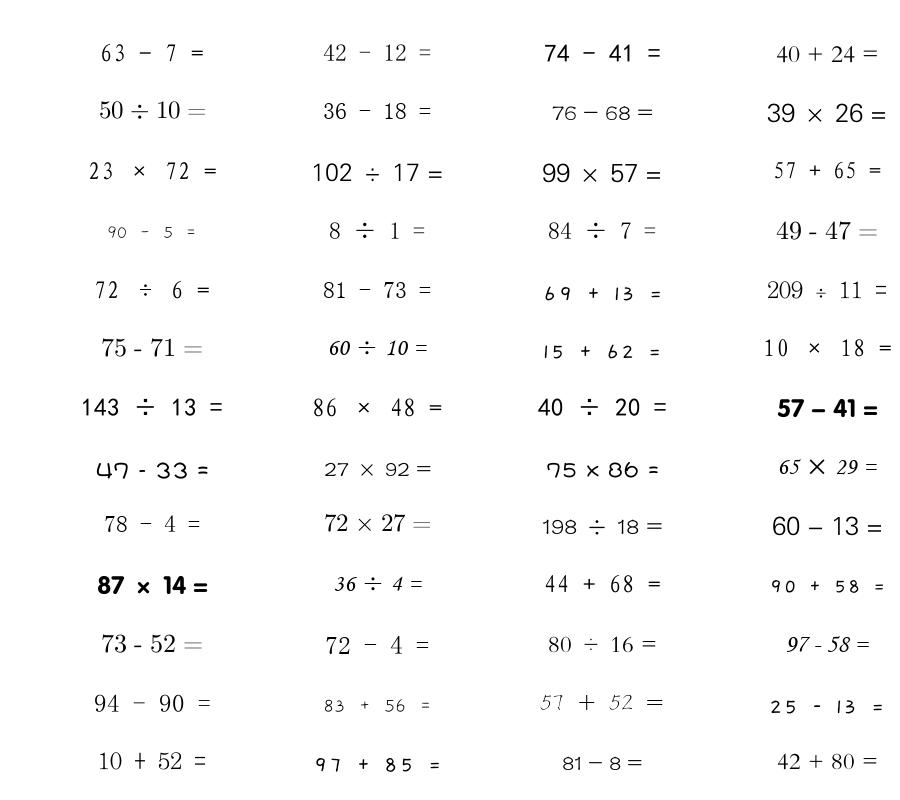MQ: (81, 398, 223, 416), (311, 163, 443, 182), (312, 398, 442, 417), (538, 398, 667, 417), (767, 103, 887, 123), (542, 163, 662, 183), (88, 162, 217, 180), (763, 339, 892, 357), (772, 516, 883, 536), (97, 575, 208, 595), (767, 281, 887, 299), (540, 694, 664, 711), (544, 44, 661, 62), (544, 575, 661, 593), (94, 694, 211, 712), (94, 281, 210, 299), (777, 398, 878, 418), (773, 161, 881, 179), (98, 752, 206, 770), (776, 221, 878, 240), (101, 338, 203, 357), (101, 634, 203, 653), (542, 519, 663, 535), (313, 757, 442, 772), (99, 101, 206, 119), (324, 514, 431, 532), (96, 462, 209, 479), (546, 461, 659, 478), (100, 44, 204, 62), (325, 636, 429, 654), (548, 636, 657, 653), (323, 44, 431, 61), (548, 222, 656, 239), (542, 286, 663, 301), (542, 344, 662, 359), (776, 46, 879, 63), (323, 103, 431, 119), (323, 282, 431, 298), (777, 753, 878, 770), (329, 222, 425, 239), (104, 515, 200, 532), (769, 700, 885, 714), (327, 340, 427, 356), (777, 459, 877, 475), (323, 699, 432, 713), (769, 580, 886, 593), (324, 462, 431, 476), (552, 106, 653, 120), (785, 636, 869, 652), (333, 576, 422, 591), (107, 226, 197, 239), (562, 756, 642, 770)
